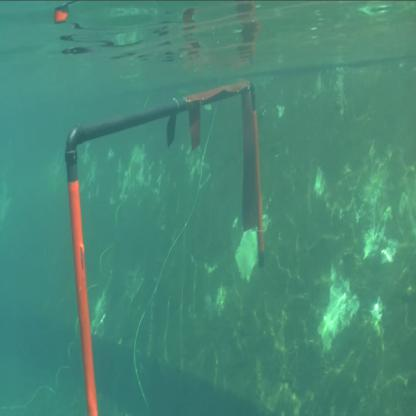gate: (63, 73, 271, 413)
